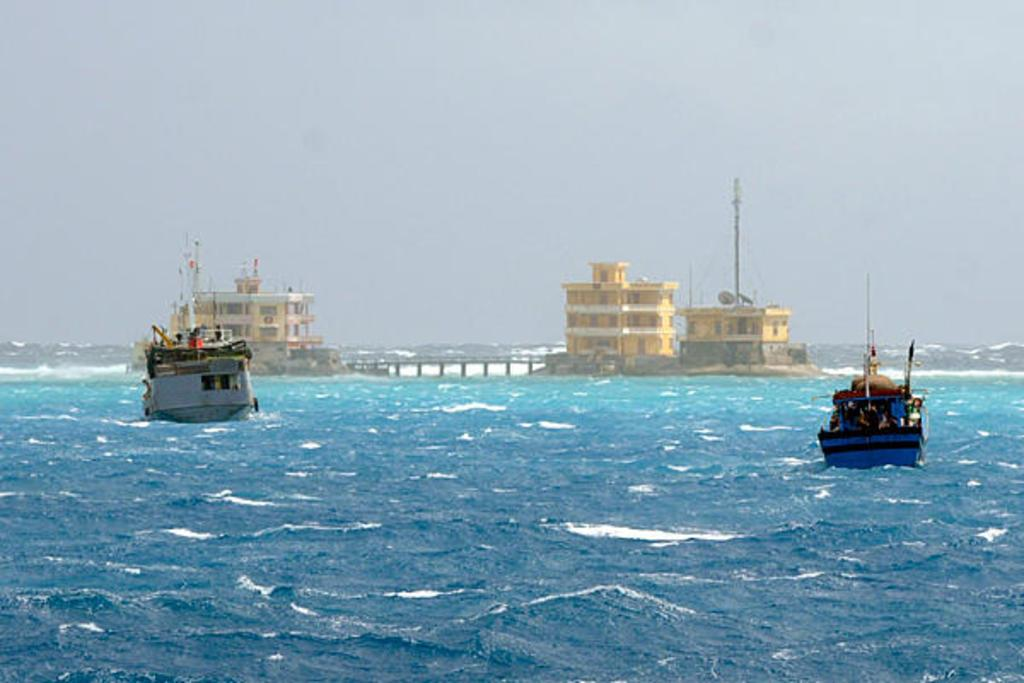PassengerShip: (130, 243, 262, 427), (816, 303, 940, 477)
